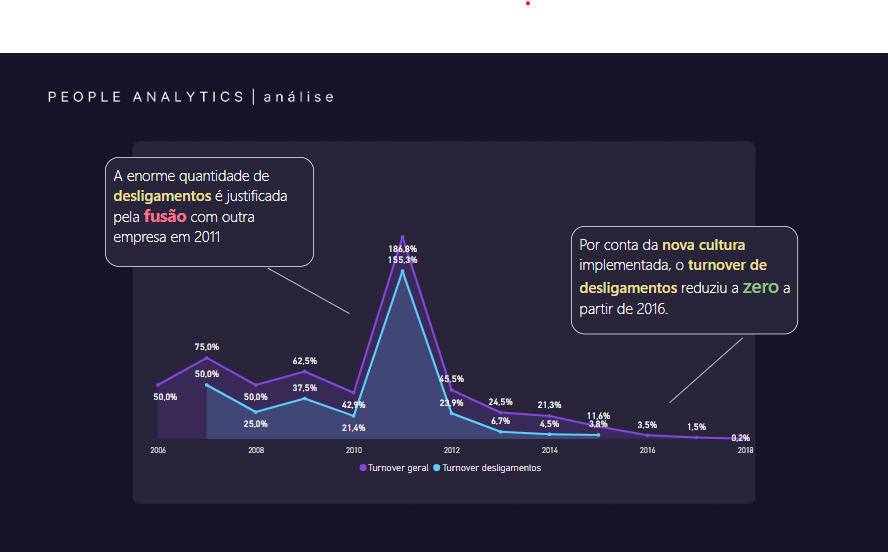

Layout of this report page (visuals, bound fields, positions):
{"tool":"powerbi","page":{"name":"Apresentação2","canvas":[1280,720],"ordinal":3},"visuals":[{"type":"areaChart","title":"Turnover geral x Turnover desligamentos","fields":{"Category":["Tb_contratacoes.DataContratacao.Variation.Hierarquia de datas.Ano"],"Y":["Medidas.TurnoverGeral","Medidas.TurnoverDesligamentos"]},"box":[210,231.7,880,386.7],"z":0},{"type":"textbox","box":[821.8,249.9,326.9,155.5],"z":0,"group":"g1"},{"type":"group","id":"g1","title":"Grupo 1","box":[821.8,249.9,326.9,265.1],"z":1000},{"type":"basicShape","box":[947.8,401.7,138.4,113.3],"z":1000,"group":"g1"},{"type":"basicShape","box":[376.3,286.2,137.5,114.9],"z":1500,"group":"g2"},{"type":"textbox","box":[151.2,151.2,301,158.4],"z":2000,"group":"g2"},{"type":"group","id":"g2","title":"Grupo 2","box":[151.2,151.2,362.6,249.9],"z":2001}]}

Visuals, with their boxes on the page's 1280x720 design canvas (x1, y1, x2, y2). These are canvas units, not pixel positions in the 888x552 screenshot, which may show the page scaled, cropped or inside an application window:
"Turnover geral x Turnover desligamentos" areaChart: box(210, 232, 1090, 618)
textbox: box(822, 250, 1149, 405)
"Grupo 1" group: box(822, 250, 1149, 515)
basicShape: box(948, 402, 1086, 515)
basicShape: box(376, 286, 514, 401)
textbox: box(151, 151, 452, 310)
"Grupo 2" group: box(151, 151, 514, 401)
